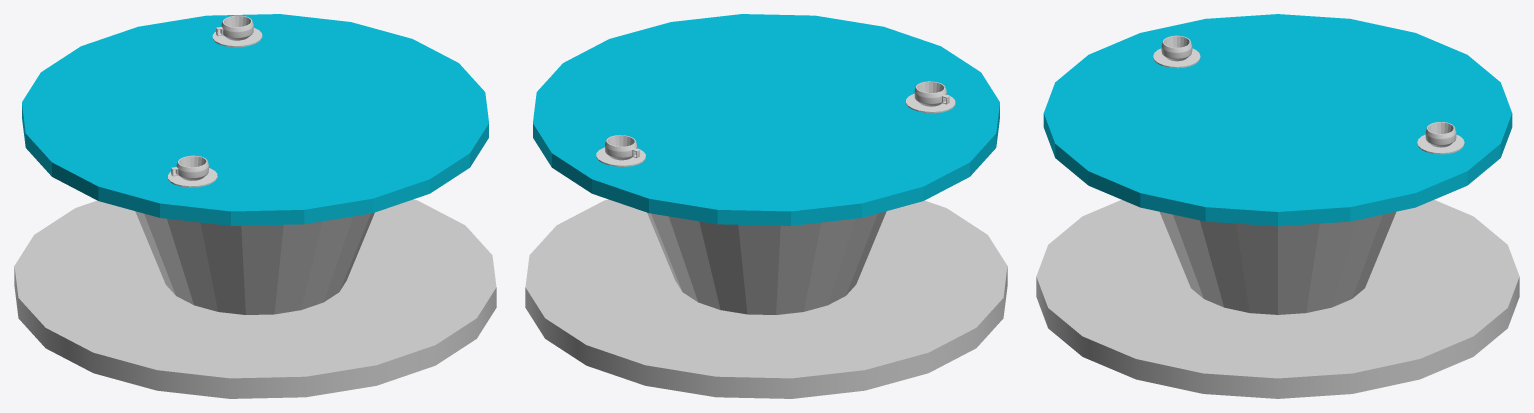
File: Table_With_Cups.fbx
3 views of the same model, side by side, from view 1: azimuth 30°, elevation 25°; view 2: azimuth 150°, elevation 25°; view 3: azimuth 270°, elevation 25° (orthographic).
Parts seen in each view (by area): view 1: table1, cupo, cup; view 2: table1, cup, cupo; view 3: table1, cup, cupo.
Boxes of the visible parts, box(x1,y1,x2,y2) form: table1: box(14, 14, 496, 398); cupo: box(212, 15, 262, 47); cup: box(168, 155, 217, 187); table1: box(525, 14, 1007, 398); cup: box(906, 81, 955, 113); cupo: box(596, 135, 645, 166); table1: box(1036, 14, 1519, 398); cup: box(1153, 35, 1200, 68); cupo: box(1417, 122, 1464, 154).
Size of the model in its own units: 22.43 by 10.22 by 22.43.
